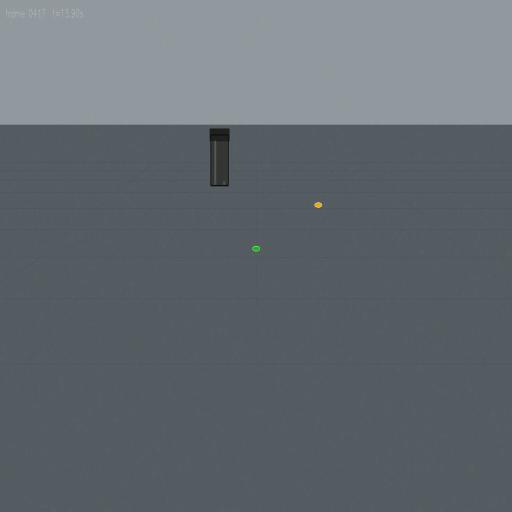bin: (209, 128, 230, 187)
